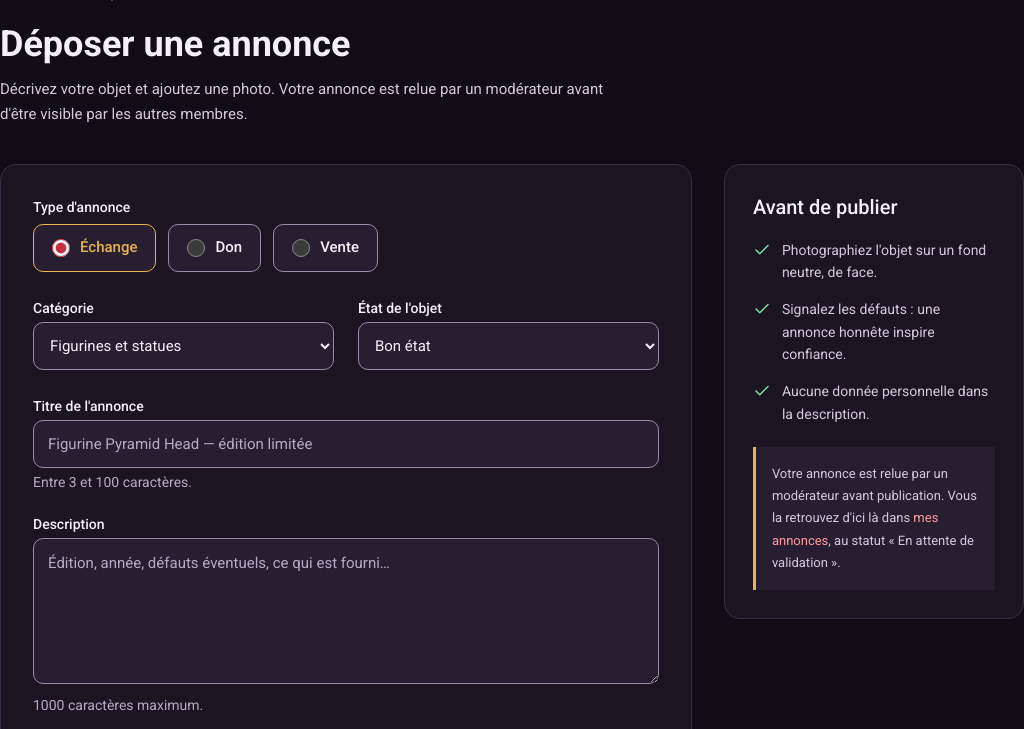
ListingForm › depot › refuse une vente au prix «  » sans interroger l API
Click the radio button labelled "Vente". click: click(301, 248)
box: [292,238,310,256]
(page scrolled)
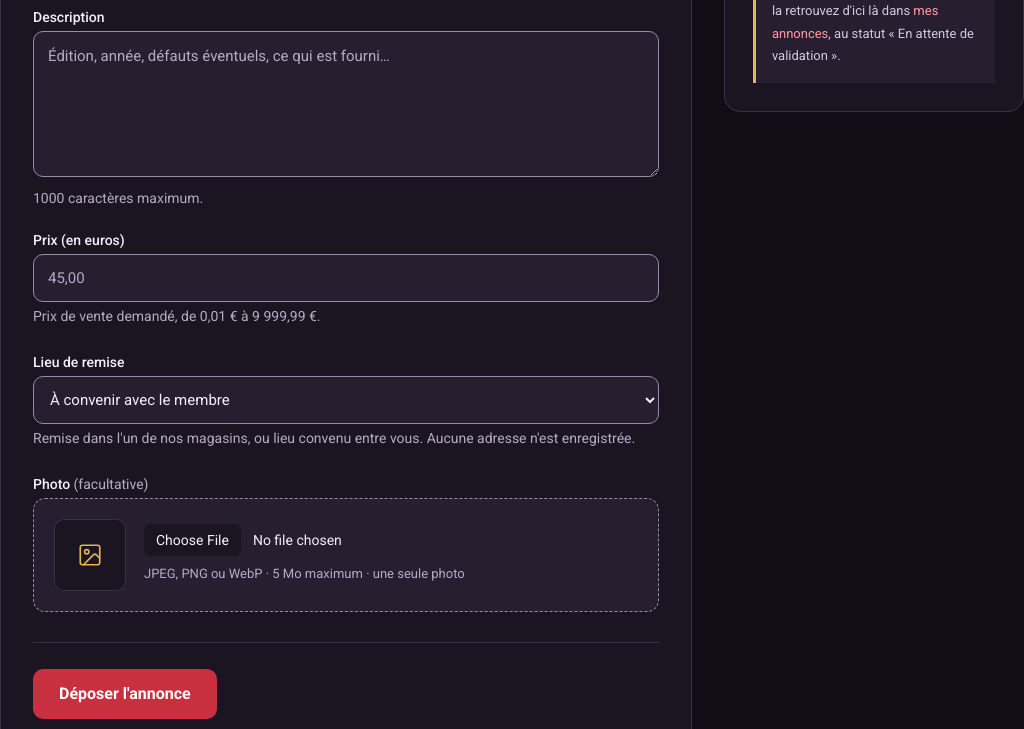
Click the button "Déposer l'annonce". click: click(125, 694)
box: [33,668,217,718]
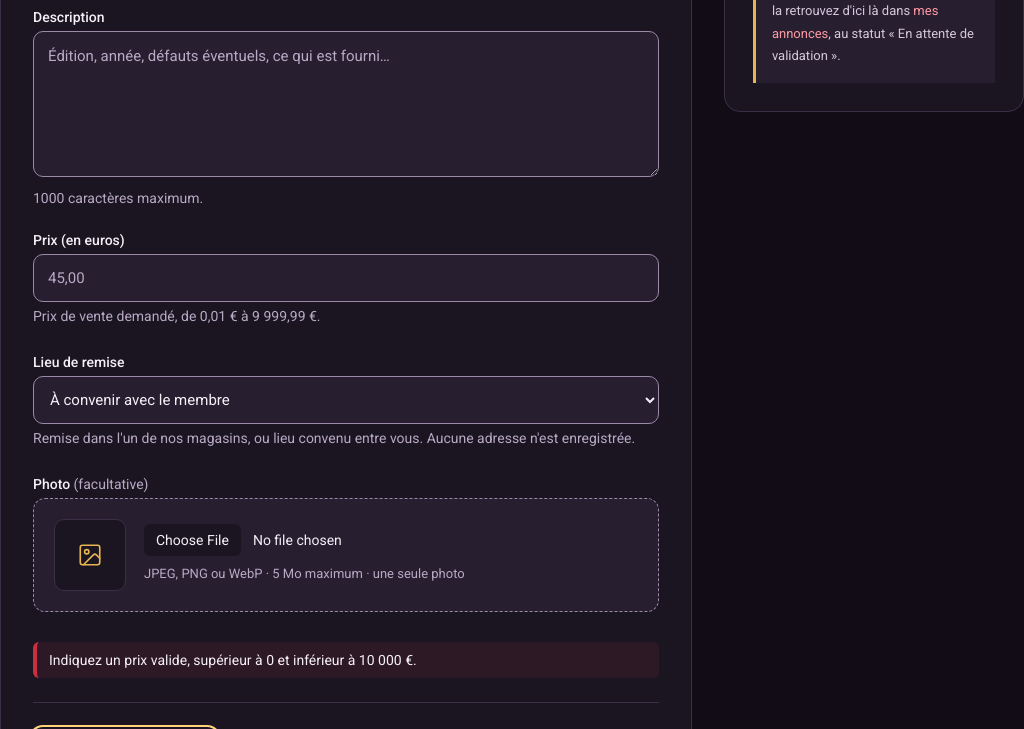
Expected: the message shows "Indiquez un prix valide", [49,652,417,668]
